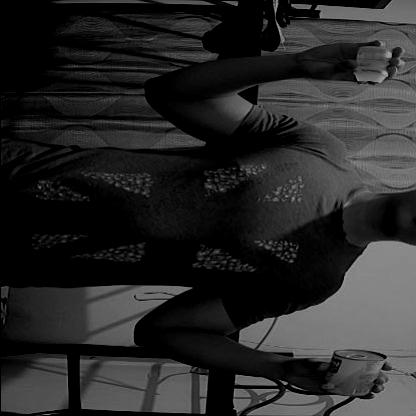Others: (352, 41, 396, 95)
